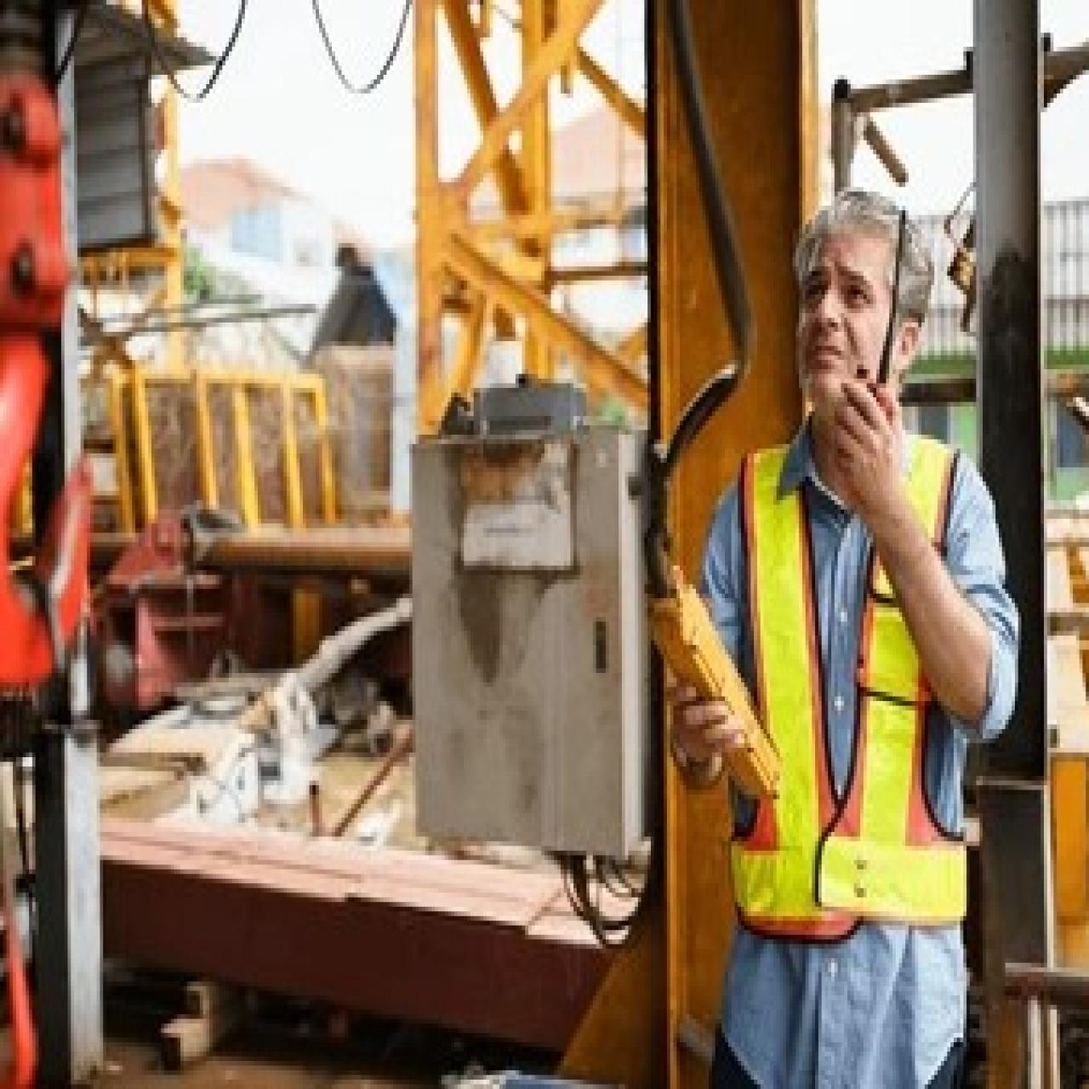Person: (659, 158, 1035, 1089)
Safety_Vest: (728, 406, 990, 961)
